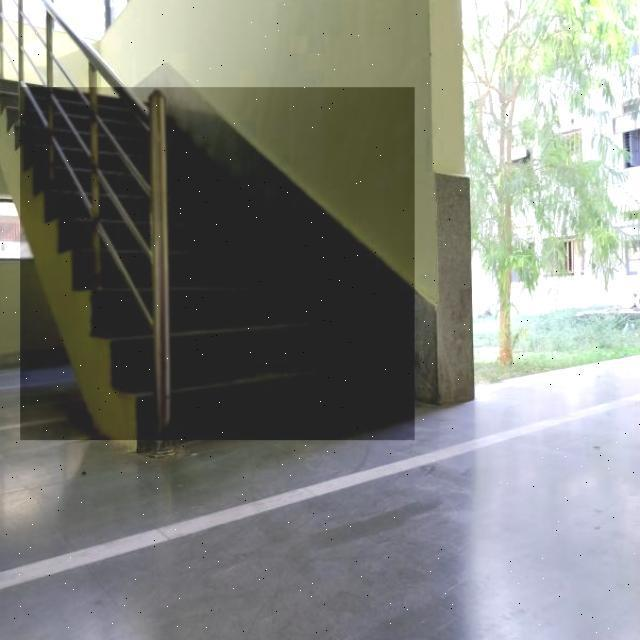stair: (20, 88, 415, 441)
